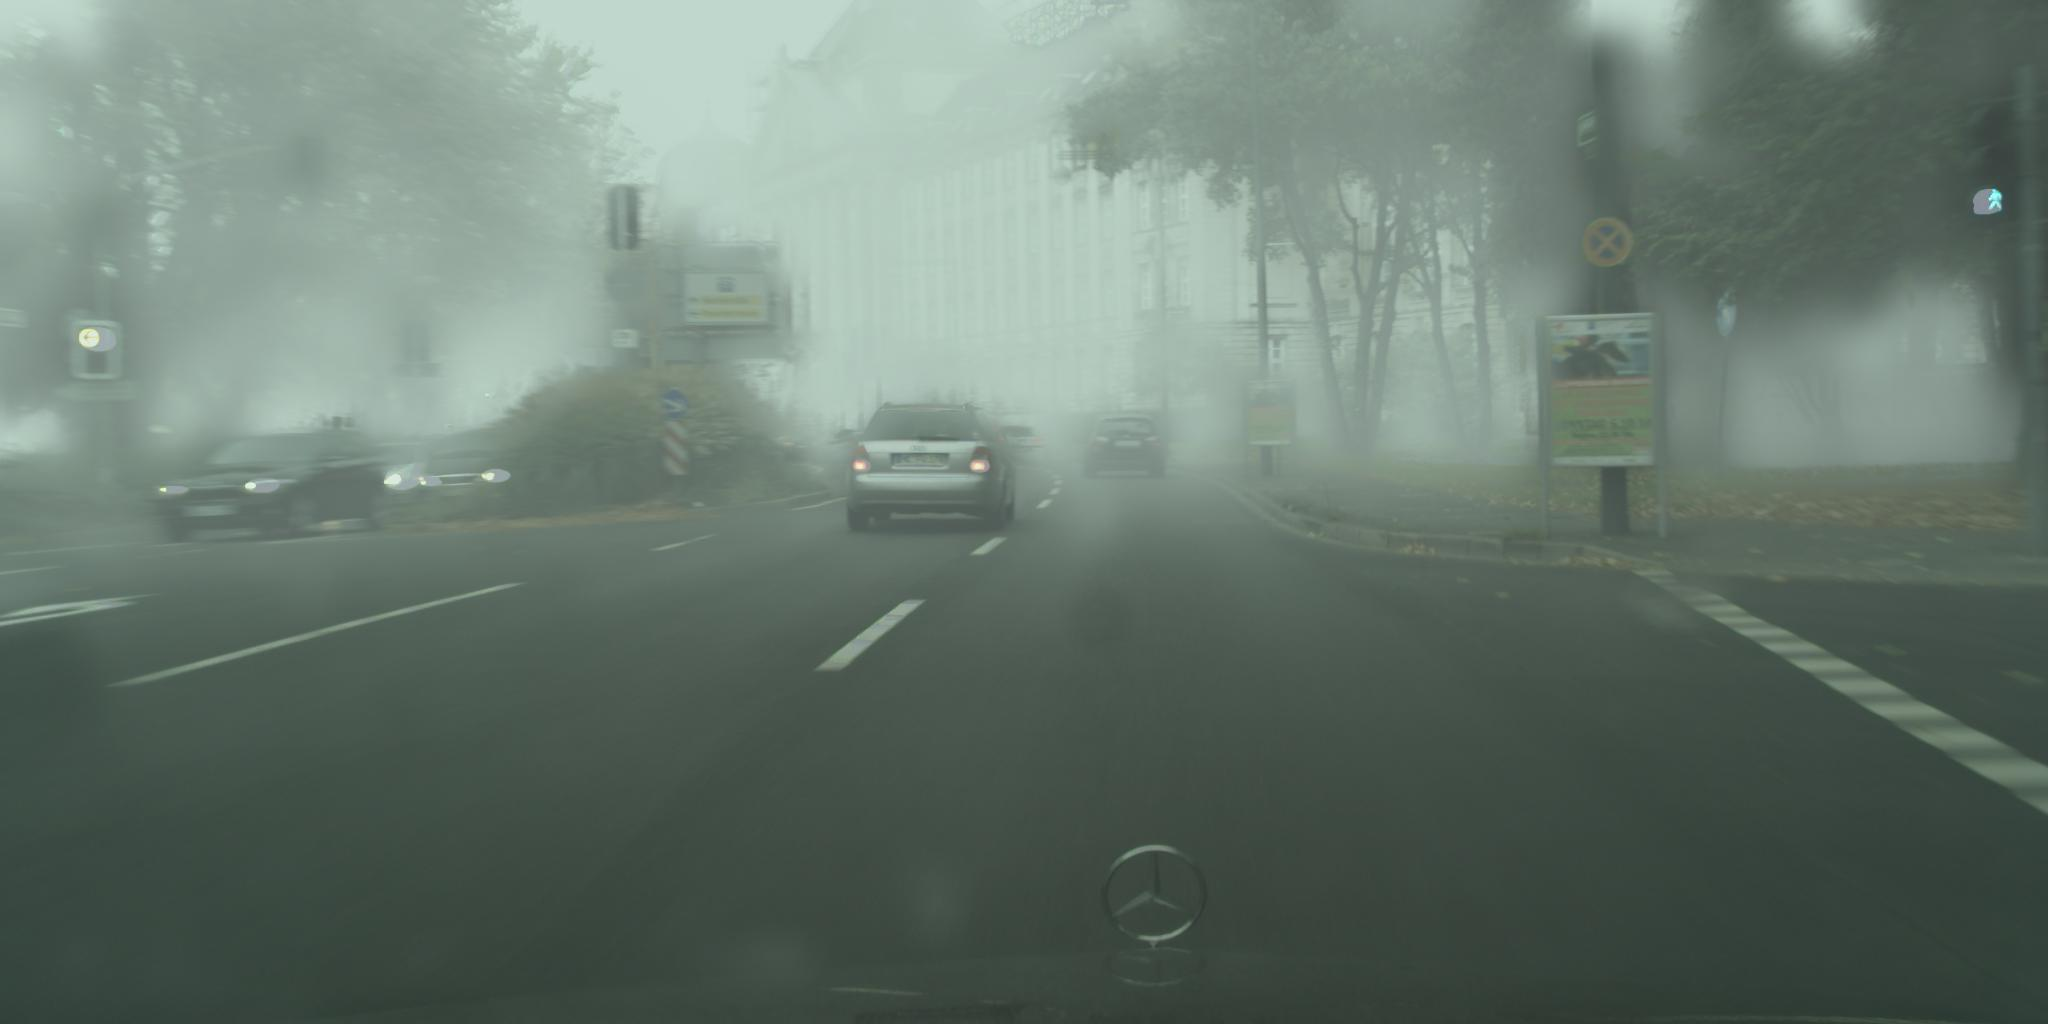car: (148, 428, 396, 545), (846, 402, 1017, 534), (411, 424, 539, 508), (353, 441, 462, 505), (1078, 411, 1168, 481), (989, 424, 1046, 465), (767, 430, 824, 462), (822, 428, 870, 465)
